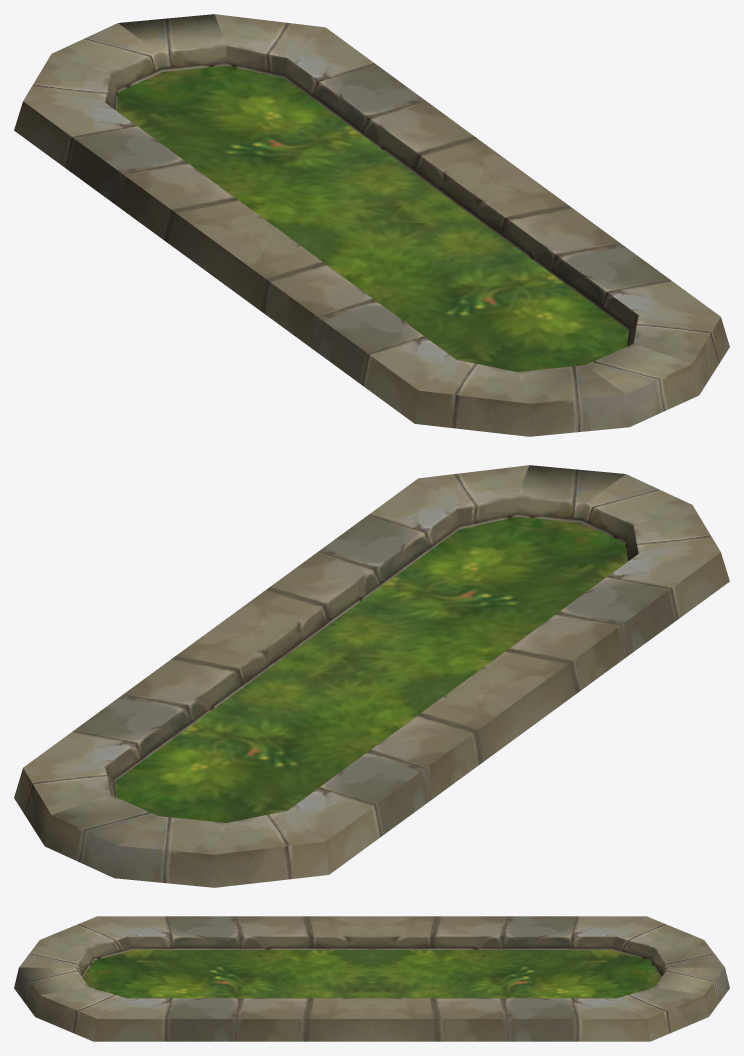
File: DN_mcdibiaozj06.FBX
3 renders of one model, top to bottom at view 1: azimuth 30°, elevation 25°; view 2: azimuth 150°, elevation 25°; view 3: azimuth 270°, elevation 25°, orthographic. The views are drawn at different scales.
Parts seen in each view (by area): view 1: DN_mcdibiaozj06; view 2: DN_mcdibiaozj06; view 3: DN_mcdibiaozj06.
Boxes of the visible parts, box(x1,y1,x2,y2) form: DN_mcdibiaozj06: box(14, 14, 729, 436); DN_mcdibiaozj06: box(14, 465, 729, 887); DN_mcdibiaozj06: box(14, 916, 729, 1041).
Size of the model in its own units: 319 by 28.8 by 903.
